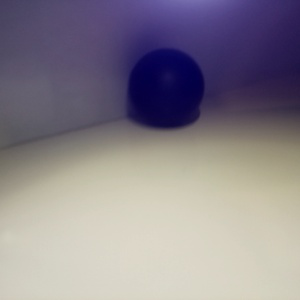dead_ball: (128, 48, 205, 123)
